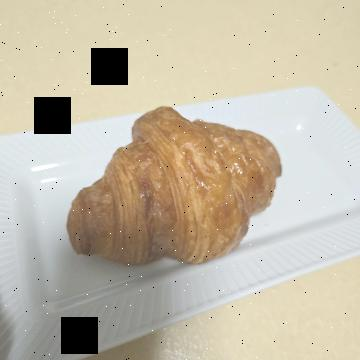croissant: (95, 72, 285, 303)
